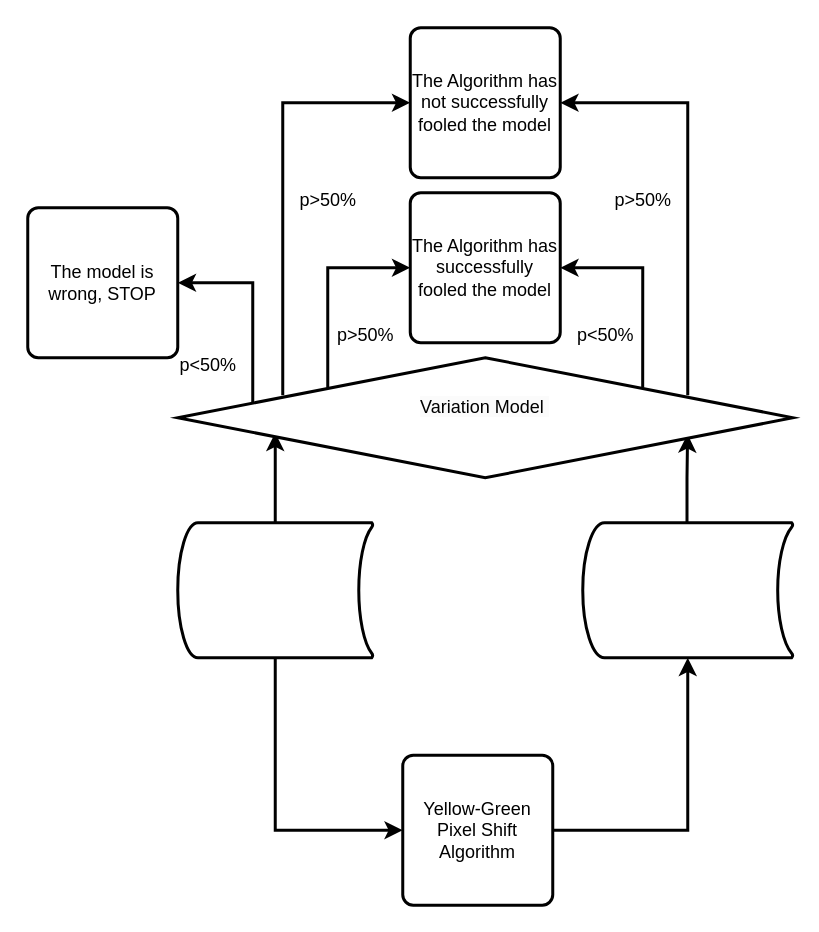
The diagram is 819 pixels wide and 932 high, and some of its shapes have lost their labels. The shapes that lost their labels are listed below. From the top down, each one's centre as x and y in pixels, then its label:
At point (275, 589): "Original Dandelion folder".
At point (687, 589): "Perturbed Dandelion Folder".
